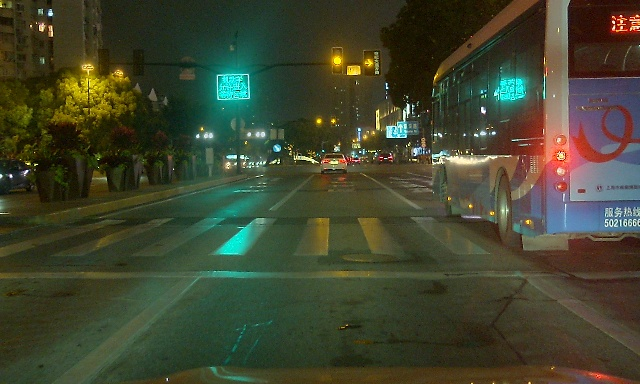bus: (420, 0, 640, 250)
car: (0, 158, 35, 196), (321, 153, 347, 174), (378, 153, 394, 165), (352, 158, 360, 165)
